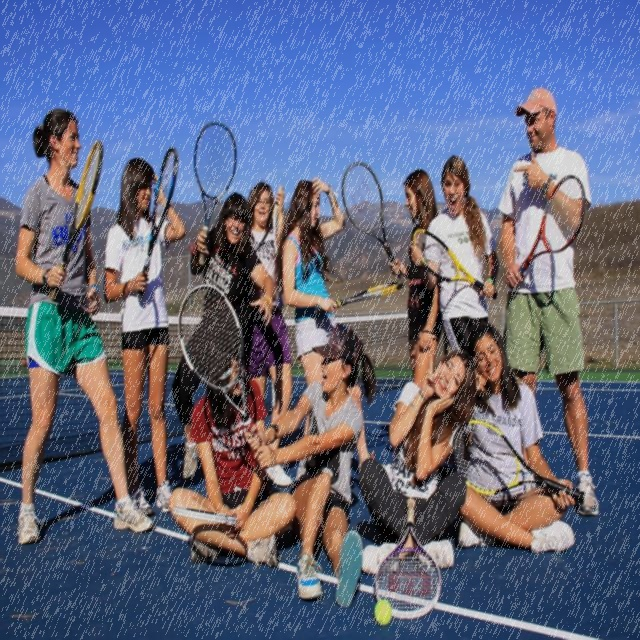pessoa: (12, 101, 160, 548), (492, 84, 602, 522), (244, 322, 378, 612), (167, 190, 280, 484), (100, 154, 190, 522), (166, 328, 300, 574), (452, 315, 578, 559), (277, 176, 375, 484), (354, 344, 479, 580), (408, 152, 502, 360), (246, 179, 294, 490), (386, 167, 444, 394)
